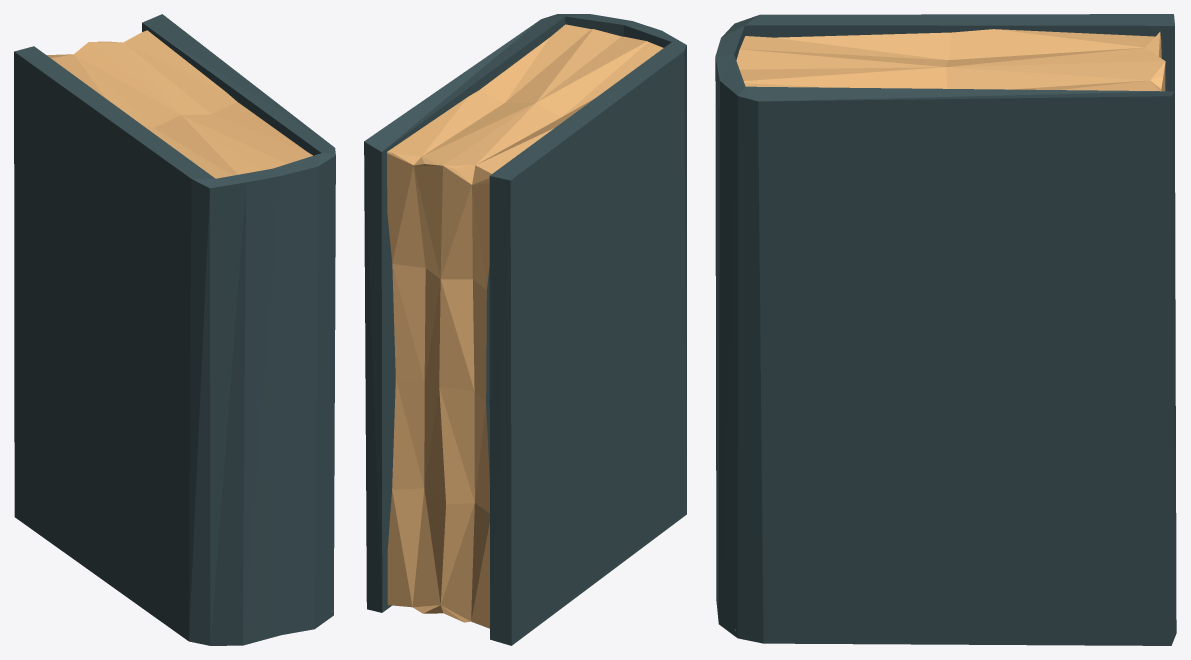
Rendered from Book_013.fbx.
The picture shows the model from 3 angles, left to right: view 1: azimuth 30°, elevation 25°; view 2: azimuth 150°, elevation 25°; view 3: azimuth 270°, elevation 25°; orthographic projection. The views are drawn at different scales.
Parts seen in each view (by area): view 1: Book_013; view 2: Book_013; view 3: Book_013.
Part boxes in pixels (box(x1,y1,x2,y2)): Book_013: box(14, 14, 335, 645); Book_013: box(364, 14, 686, 645); Book_013: box(715, 14, 1176, 645).
Size of the model in its own units: 0.1047 by 0.3164 by 0.2392.
